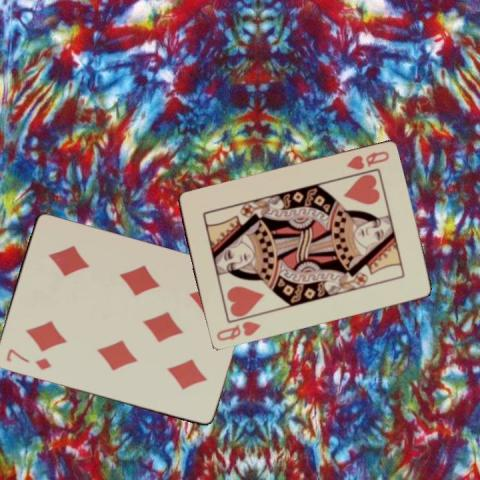7d: (2, 346, 52, 371)
Qh: (213, 319, 262, 343), (342, 148, 390, 172)
